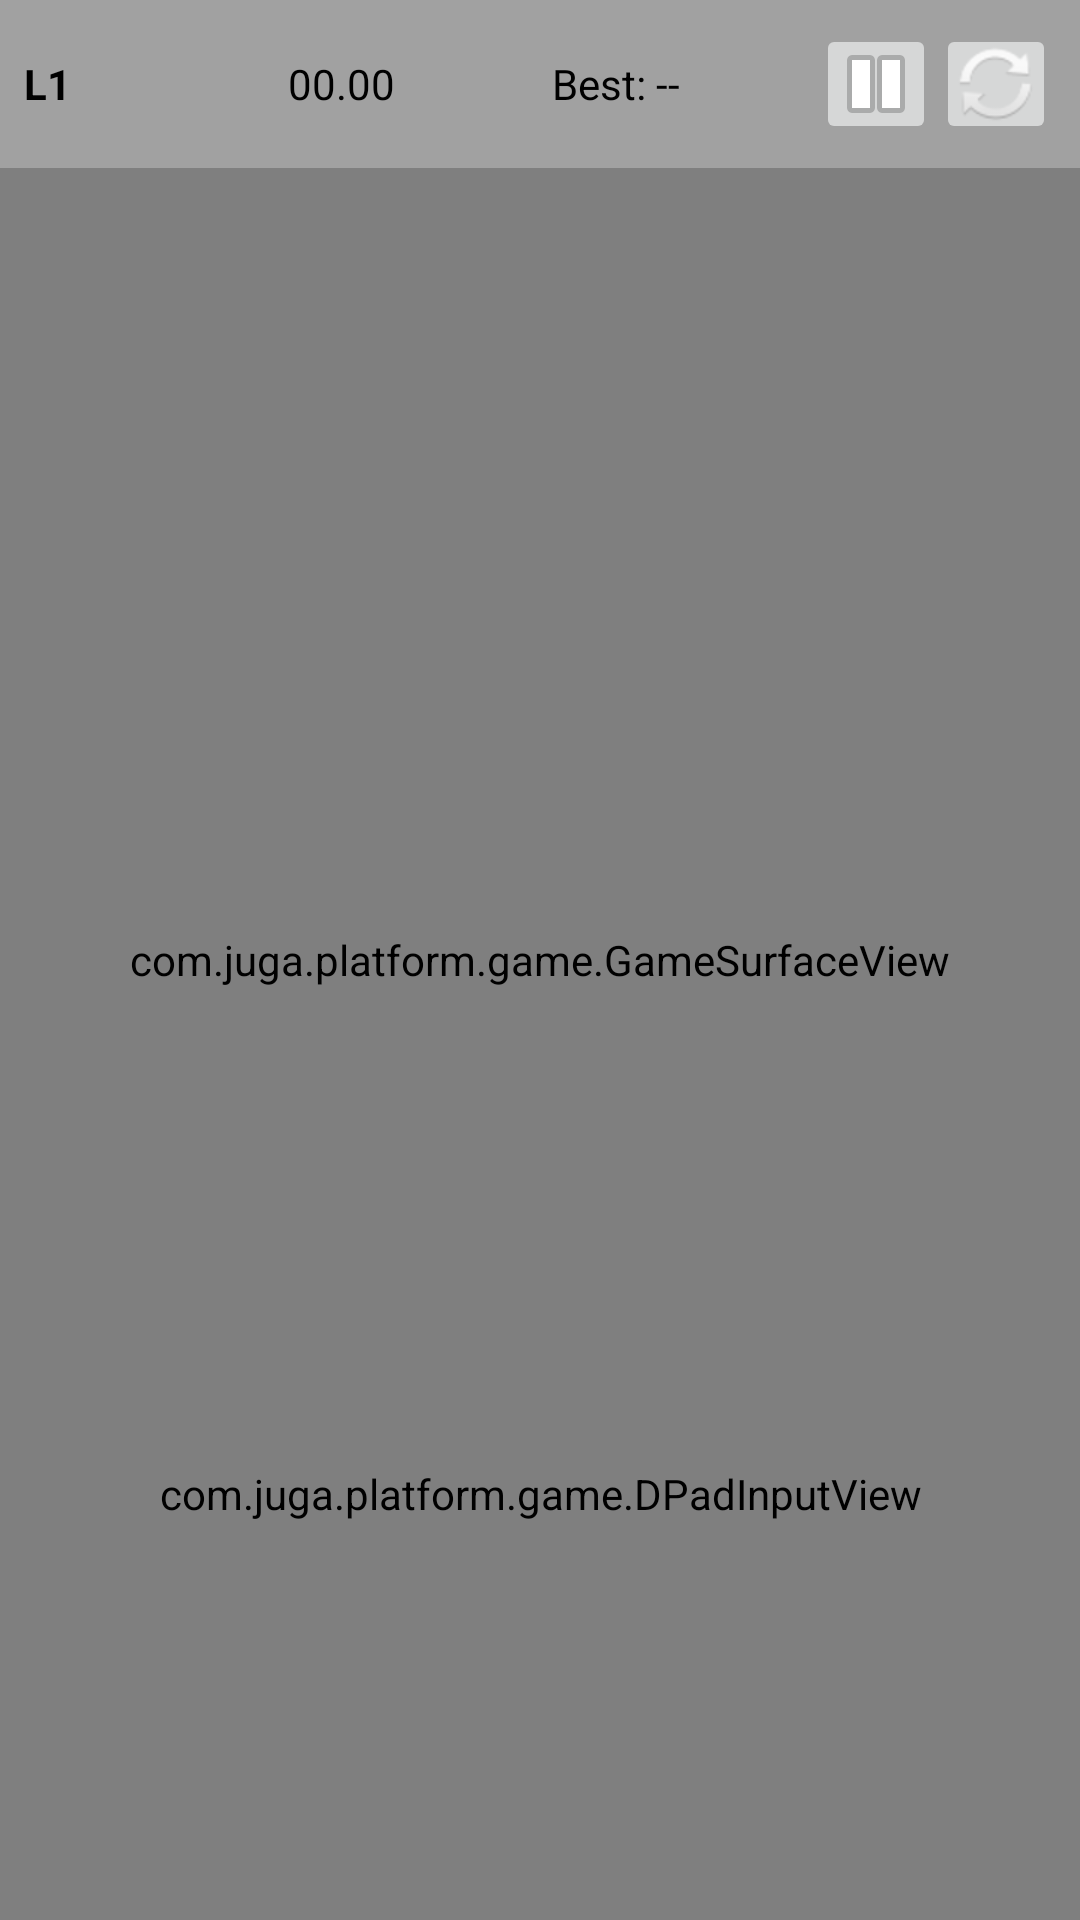

Icon bounding boxes for this 1080px x 1920px phone screenshot, format Rect(x1, y1, x2, y2):
pause: Rect(828, 42, 924, 126)
popup sync: Rect(948, 42, 1044, 126)
